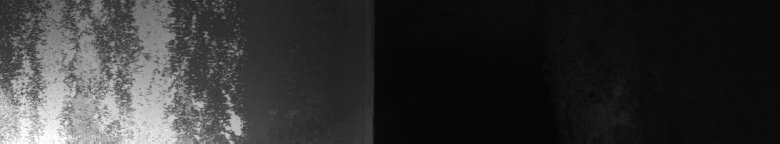kb: (4, 4, 248, 136)
